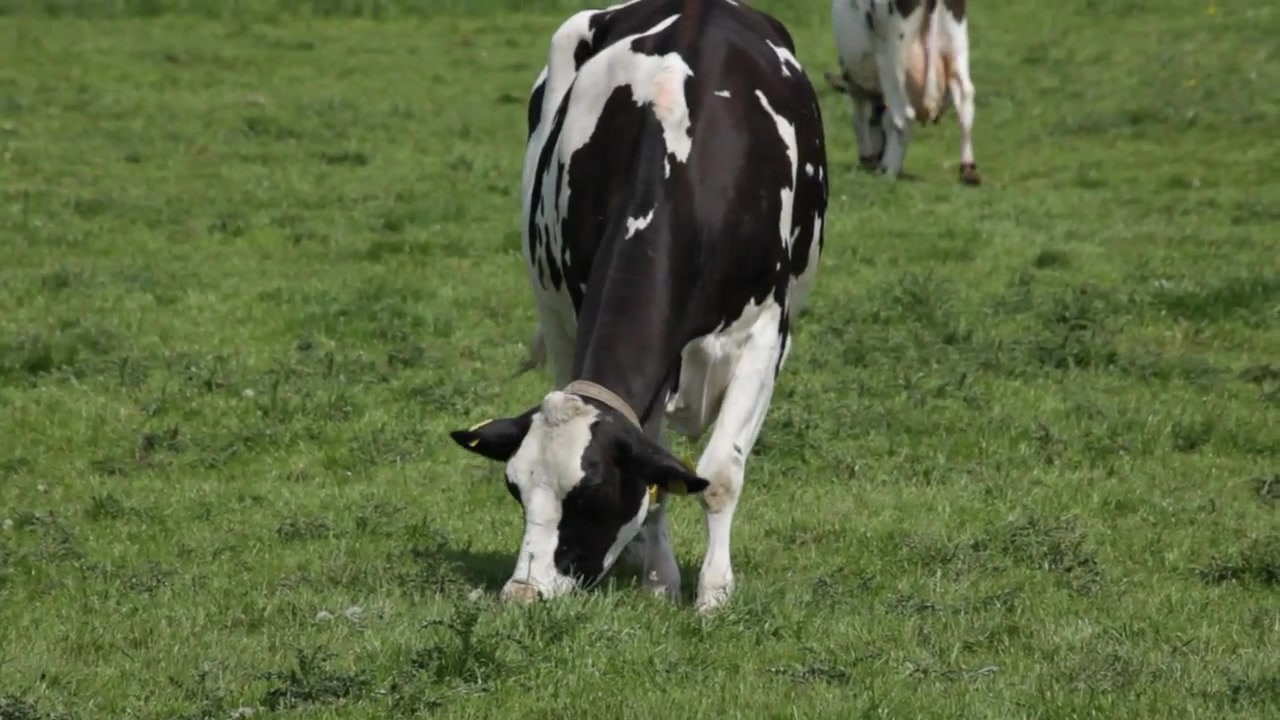cow: (447, 2, 830, 624)
